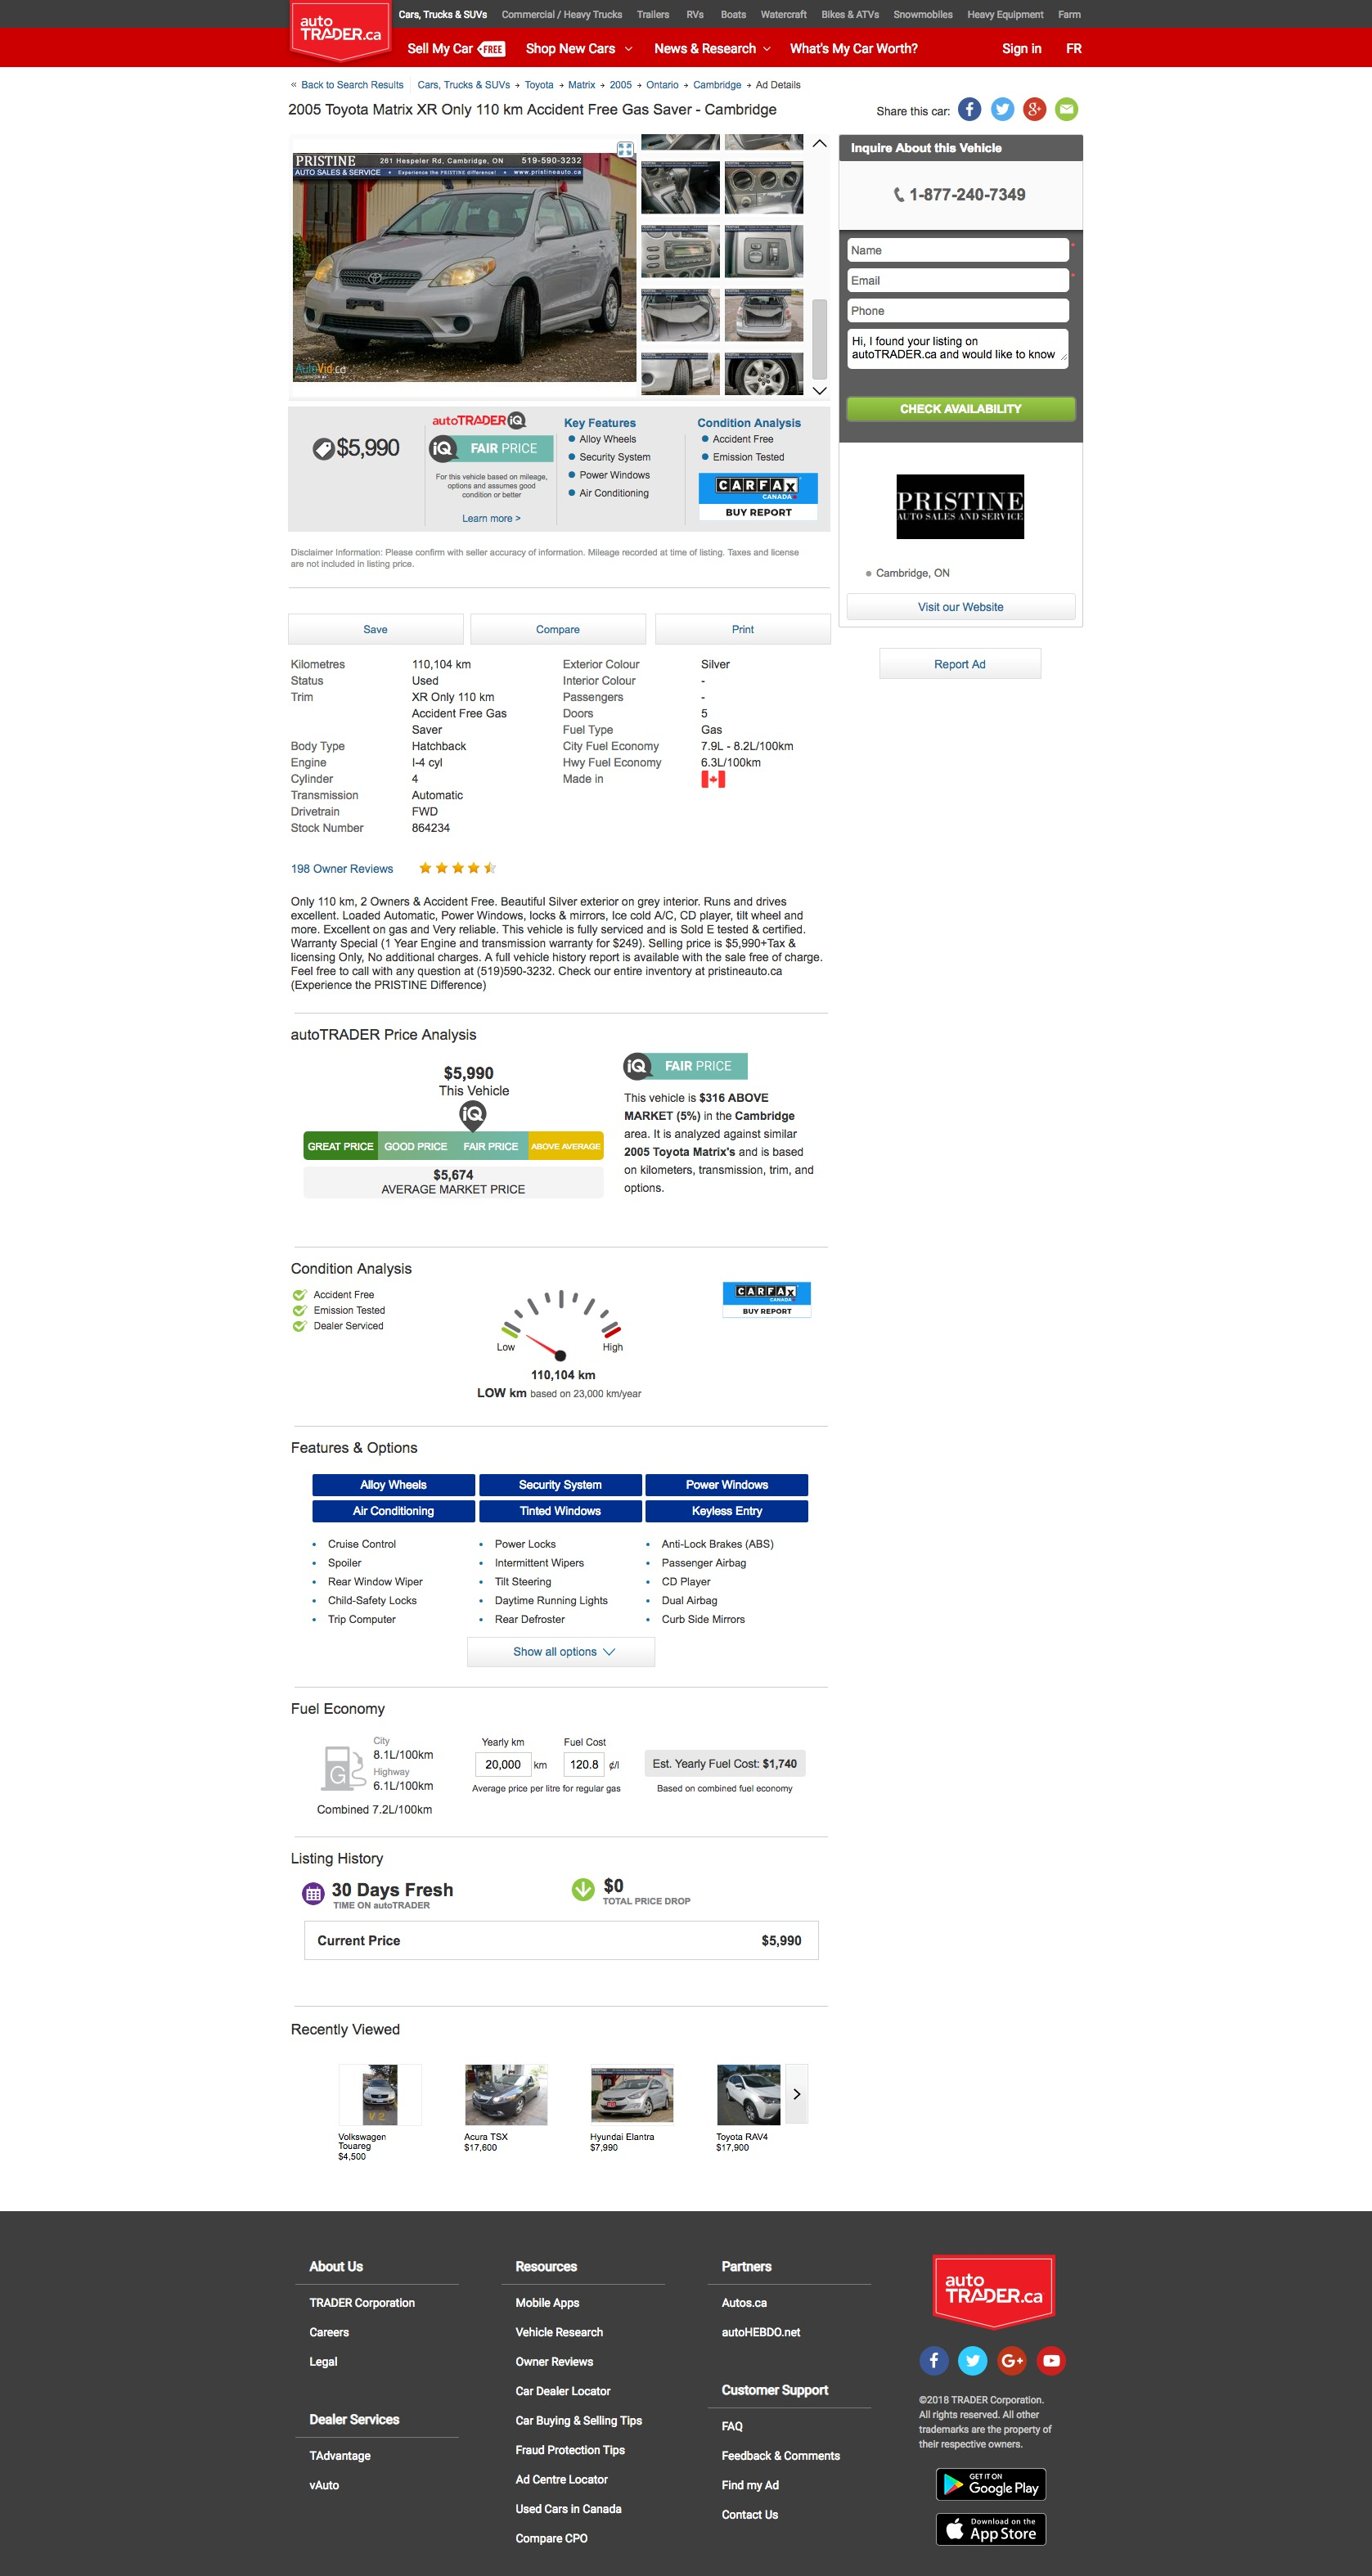car: (810, 383, 830, 400)
